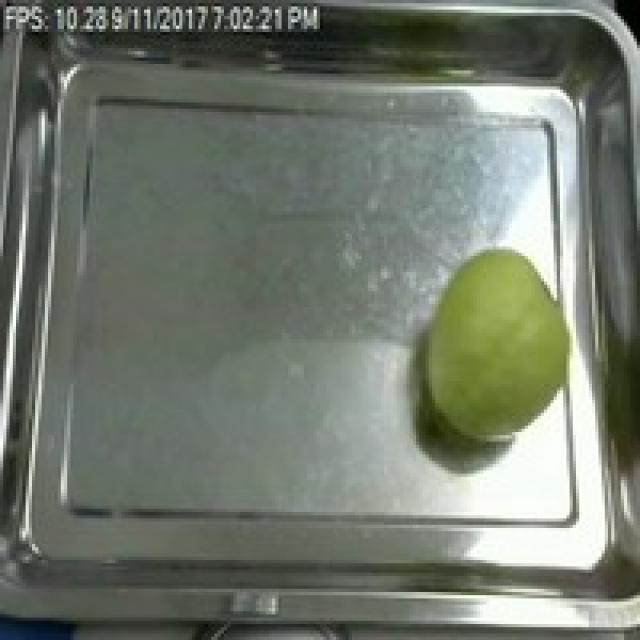Fruit: (410, 243, 595, 451)
